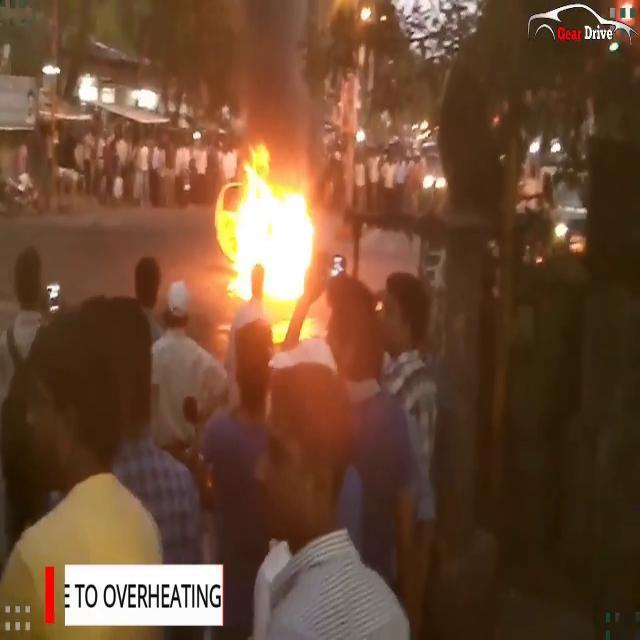Fire: (210, 142, 326, 324)
Smoke: (221, 0, 325, 159)
